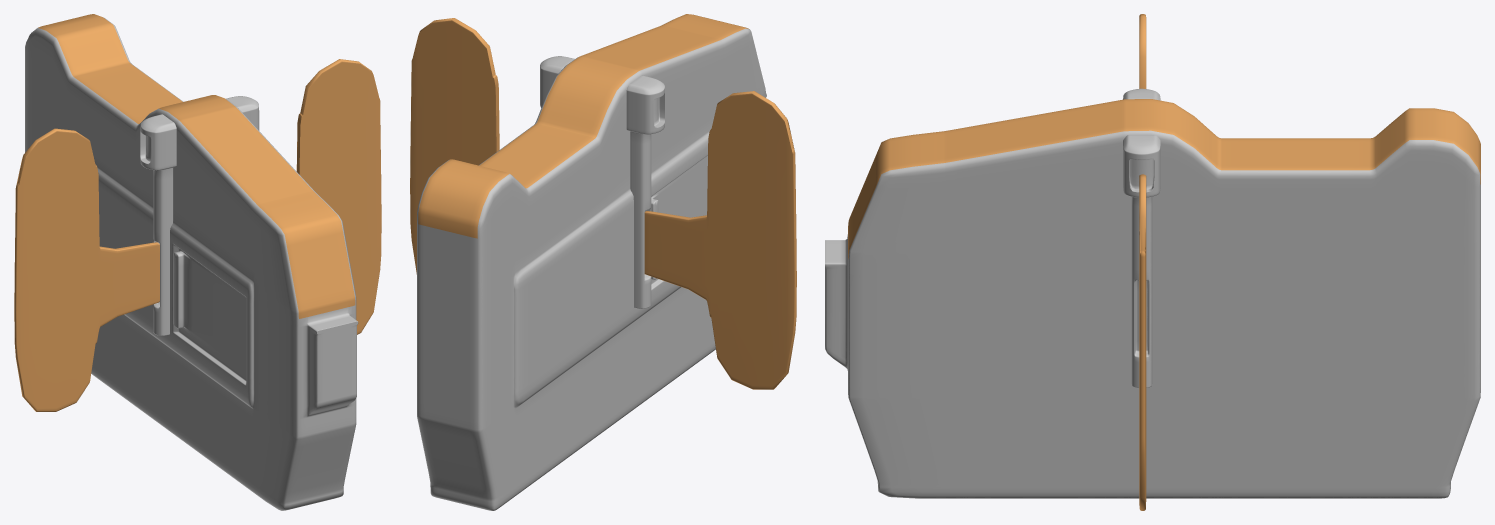
Rendered from Zhaji.fbx.
3 renders of one model, left to right at view 1: azimuth 30°, elevation 25°; view 2: azimuth 150°, elevation 25°; view 3: azimuth 270°, elevation 25°, orthographic. The views are drawn at different scales.
Visible parts, largest first — view 1: polySurface108, Gatemachine_leafL, Gatemachine_leafL1, pCube13; view 2: polySurface108, Gatemachine_leafL, Gatemachine_leafL1, pCube13; view 3: polySurface108, pCube13, Gatemachine_leafL1.
Boxes of the visible parts, x1,y1,x2,y2 form: polySurface108: (25, 14, 358, 510); Gatemachine_leafL: (14, 128, 159, 411); Gatemachine_leafL1: (296, 59, 381, 334); pCube13: (140, 96, 259, 335); polySurface108: (417, 14, 766, 510); Gatemachine_leafL: (644, 91, 796, 389); Gatemachine_leafL1: (410, 18, 499, 274); pCube13: (540, 56, 664, 308); polySurface108: (825, 99, 1480, 498); pCube13: (1123, 88, 1160, 388); Gatemachine_leafL1: (1139, 174, 1146, 510).
Size of the model in its own units: 186 by 161 by 249.
